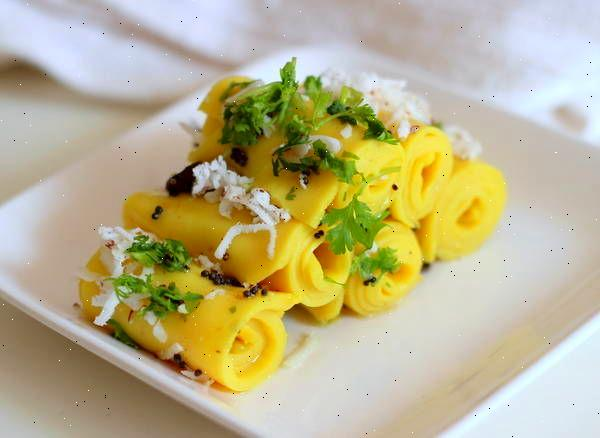khandvi: (88, 73, 550, 394)
